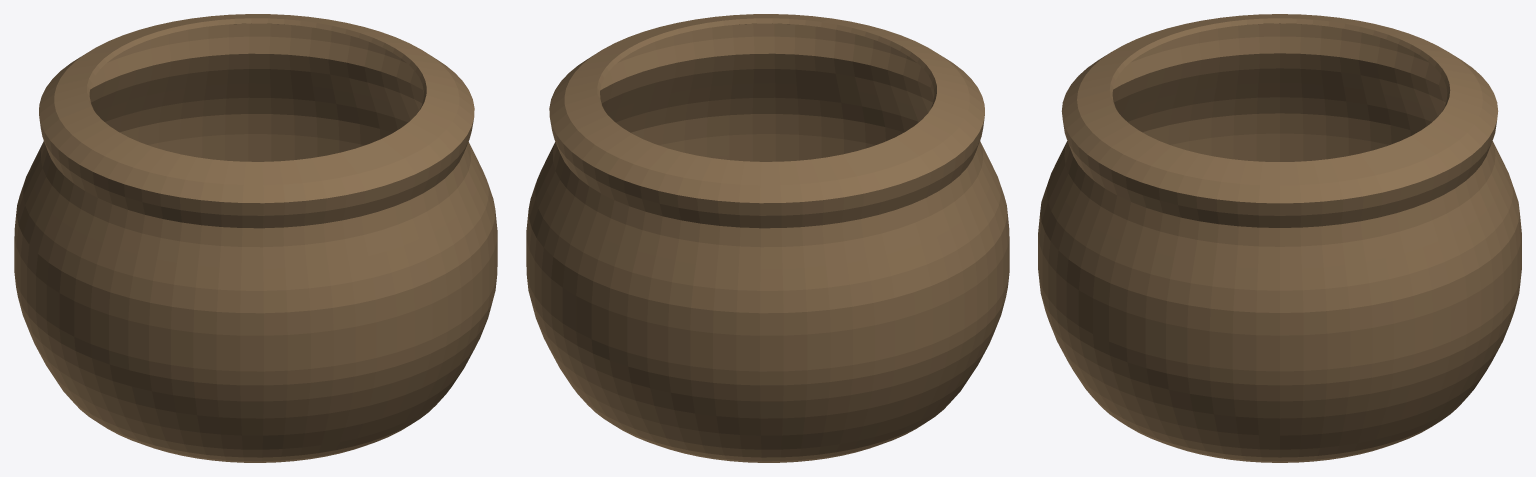
The model's file is Basket04.fbx.
3 renders of one model, left to right at view 1: azimuth 30°, elevation 25°; view 2: azimuth 150°, elevation 25°; view 3: azimuth 270°, elevation 25°, orthographic.
Visible parts, largest first — view 1: Basket04; view 2: Basket04; view 3: Basket04.
Boxes of the visible parts, x1,y1,x2,y2 form: Basket04: (14,14,497,462); Basket04: (526,14,1009,462); Basket04: (1038,14,1521,462).
Bounding box in the file's own units: 0.6377 × 0.45 × 0.6377.
